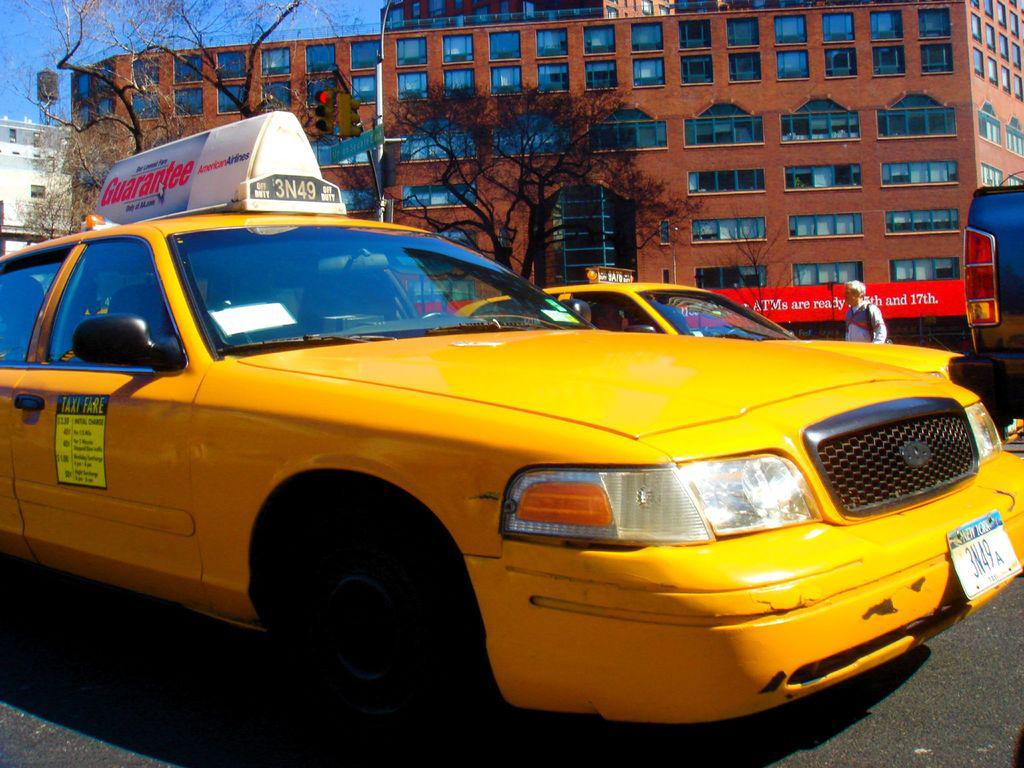taxi: (1, 112, 1024, 725), (460, 284, 1012, 439)
